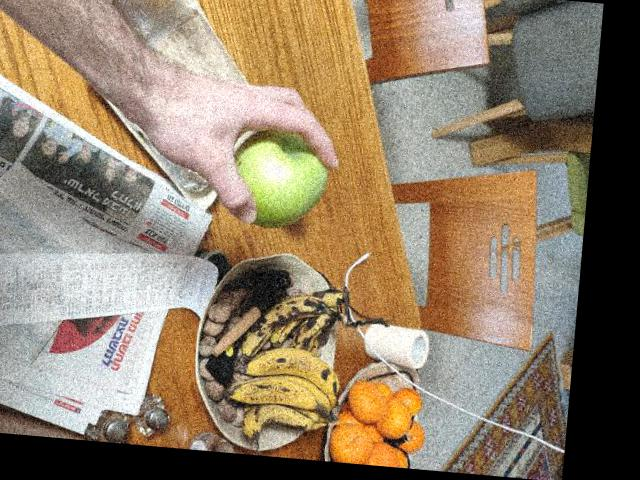apple: (218, 119, 339, 230)
